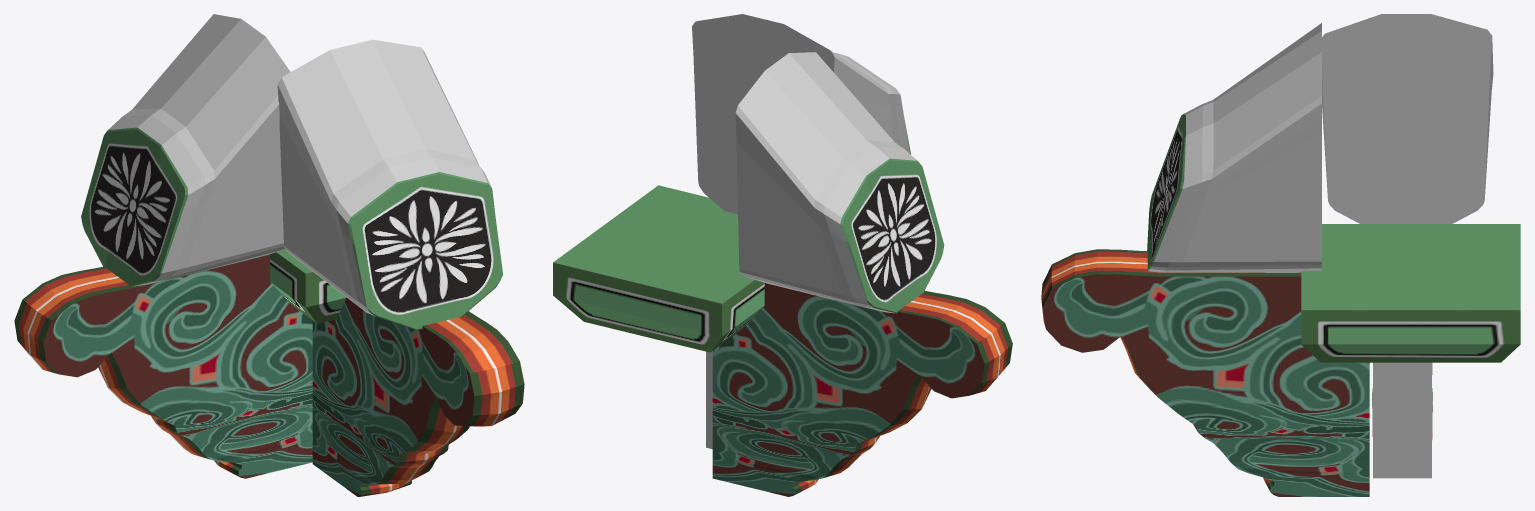
File: SM_R_DancheongCorner_7.fbx
3 views of the same model, side by side, from view 1: azimuth 30°, elevation 25°; view 2: azimuth 150°, elevation 25°; view 3: azimuth 270°, elevation 25° (orthographic). The views are drawn at different scales.
Visible parts, largest first — view 1: SM_R_DancheongCorner_7_LOD0; view 2: SM_R_DancheongCorner_7_LOD0; view 3: SM_R_DancheongCorner_7_LOD0.
Part boxes in pixels (bbox=[...]): SM_R_DancheongCorner_7_LOD0: bbox=[14, 14, 524, 496]; SM_R_DancheongCorner_7_LOD0: bbox=[553, 14, 1012, 496]; SM_R_DancheongCorner_7_LOD0: bbox=[1041, 14, 1520, 496].
Size of the model in its own units: 70.2 by 71.71 by 72.27.
